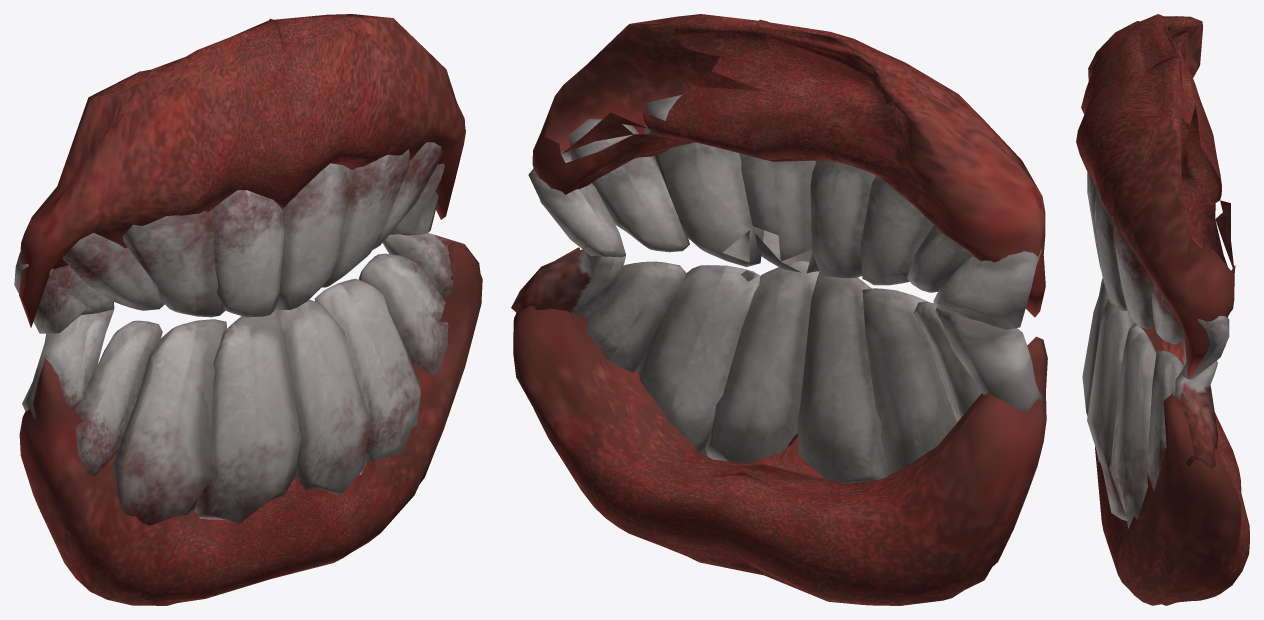
File: Teeth_Processed.glb
3 views of the same model, side by side, from view 1: azimuth 30°, elevation 25°; view 2: azimuth 150°, elevation 25°; view 3: azimuth 270°, elevation 25° (orthographic). The views are drawn at different scales.
Parts seen in each view (by area): view 1: Bottom, Top; view 2: Bottom, Top; view 3: Top, Bottom.
Boxes of the visible parts, box(x1,y1,x2,y2) form: Bottom: box(19, 233, 482, 605); Top: box(14, 14, 465, 333); Bottom: box(511, 247, 1047, 605); Top: box(528, 14, 1045, 329); Top: box(1076, 14, 1235, 379); Bottom: box(1082, 278, 1249, 605).
Bounding box in the file's own units: 1.37 × 1.48 × 0.4438.
Materials: 1 (1 with a texture image).
